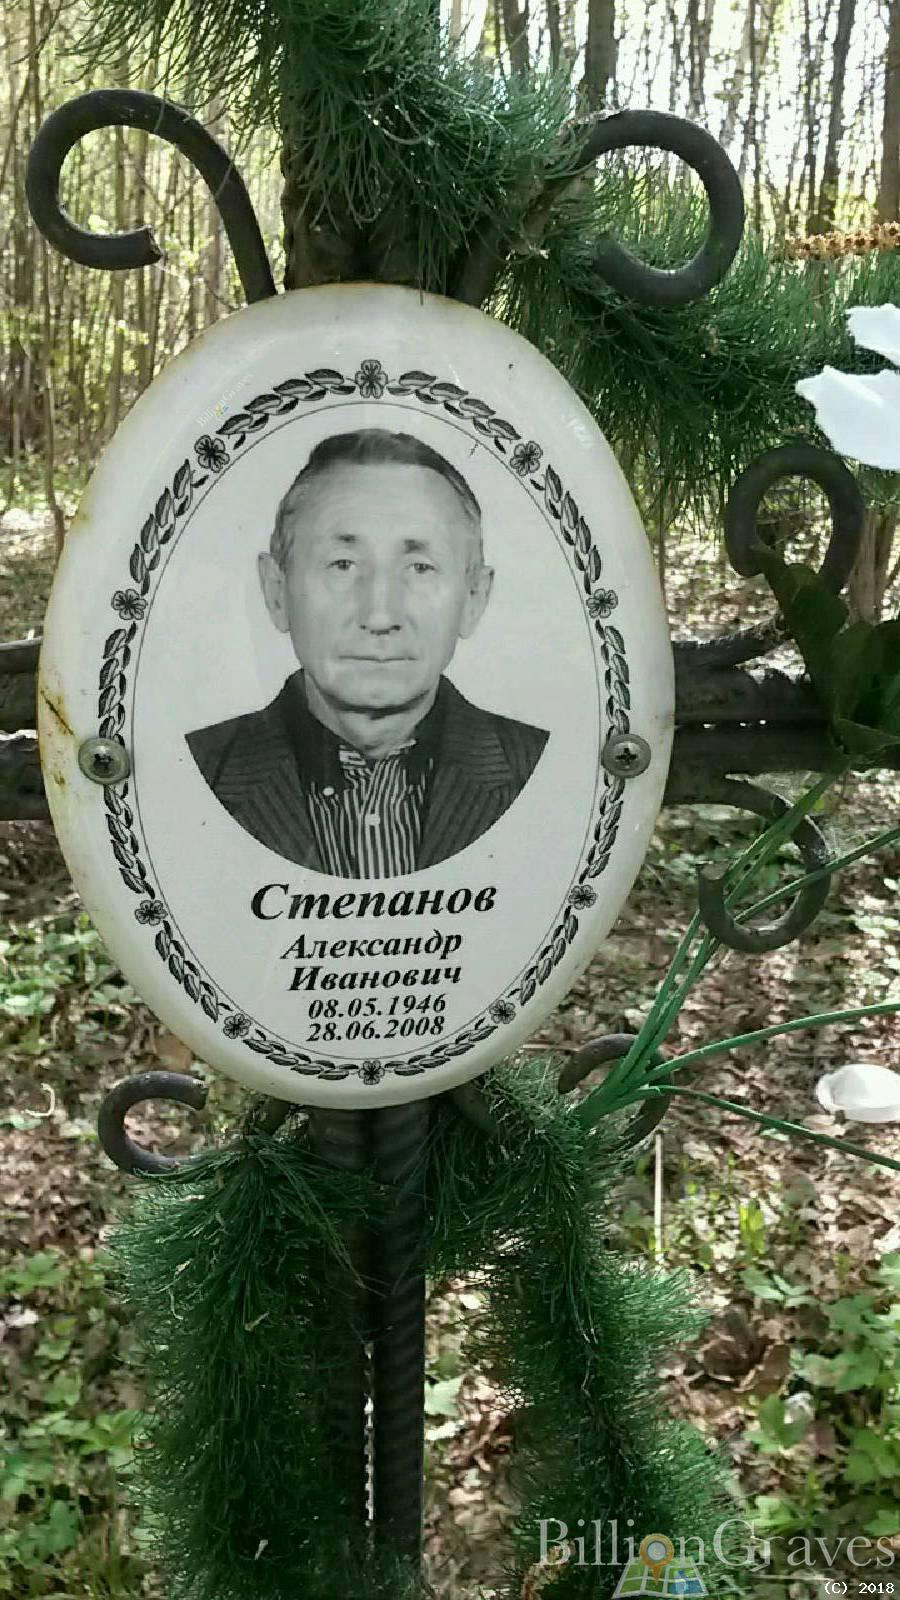plaque: (59, 207, 675, 1140)
